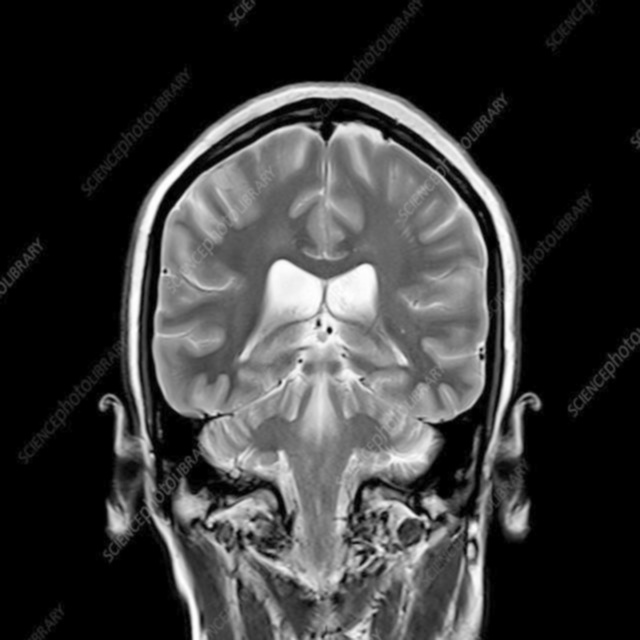glioma tumor: (188, 150, 449, 640)
